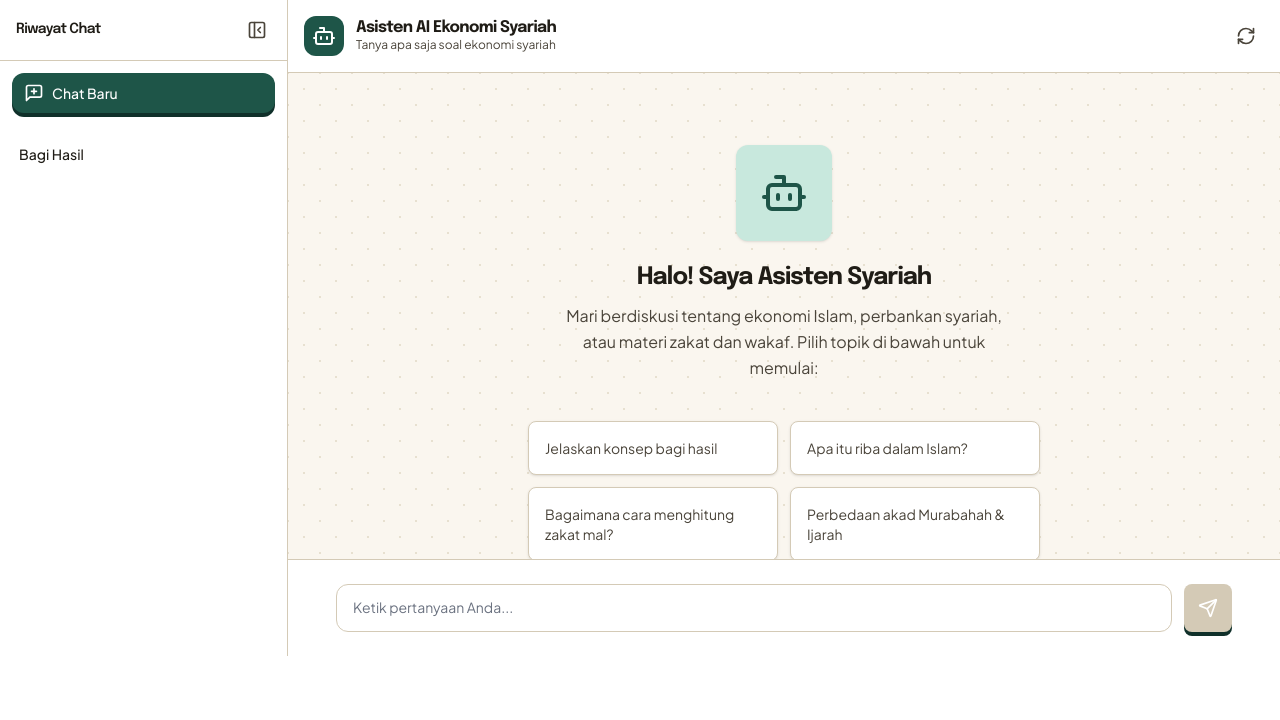
Scenario: F5 — Chatbot AI › TC-F.21: Student menekan tombol "New Chat"
The width and height of the screenshot is (1280, 720).
Load an existing session first
Click the text "Bagi Hasil" at (51, 154), box left=19, top=145, right=84, bottom=163
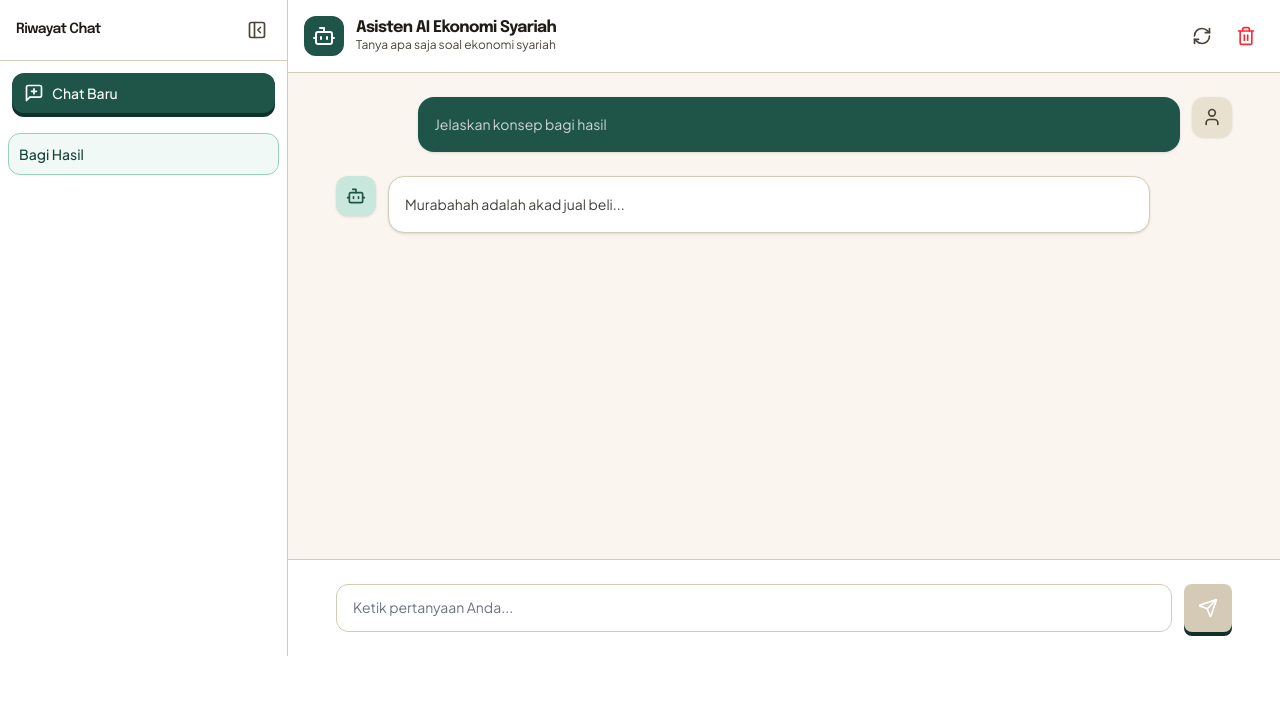
Expected: the text "Murabahah adalah akad jual beli..." is shown, left=405, top=195, right=625, bottom=213
Click the button "Chat Baru" at (85, 93), box left=12, top=73, right=275, bottom=113
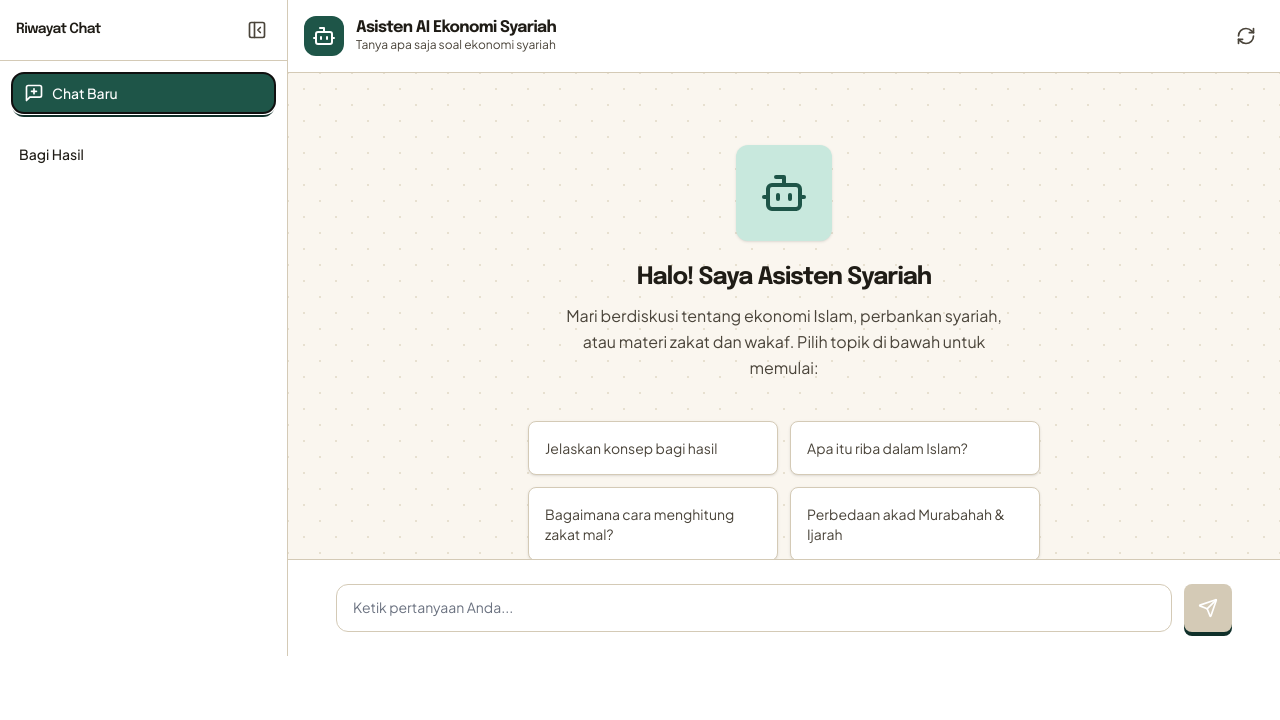
Expected: the text "Murabahah adalah akad jual beli..." is gone
Expected: the heading "Halo! Saya Asisten Syariah" is shown, left=637, top=265, right=931, bottom=291
